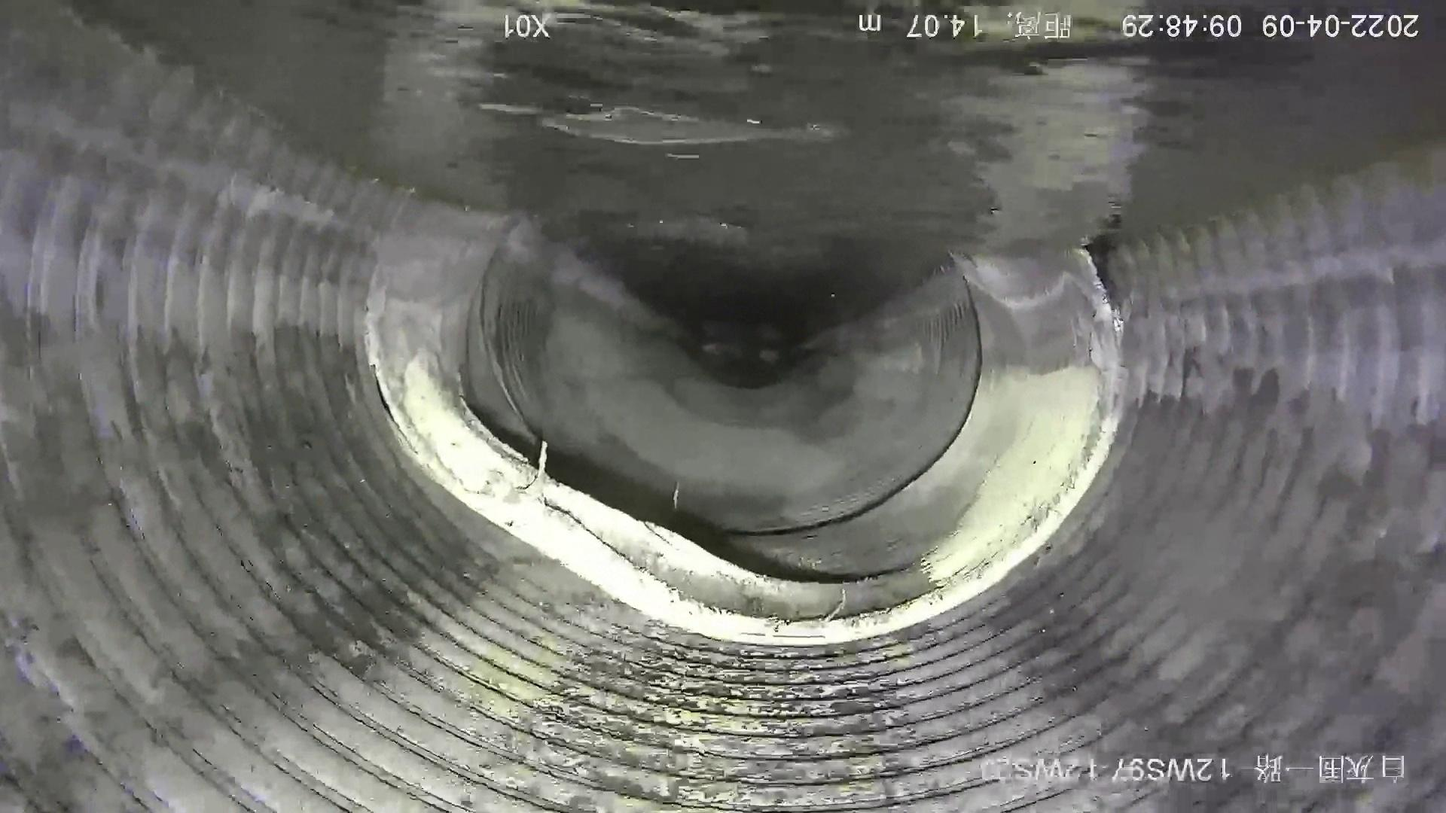BX: (307, 191, 1157, 656)
